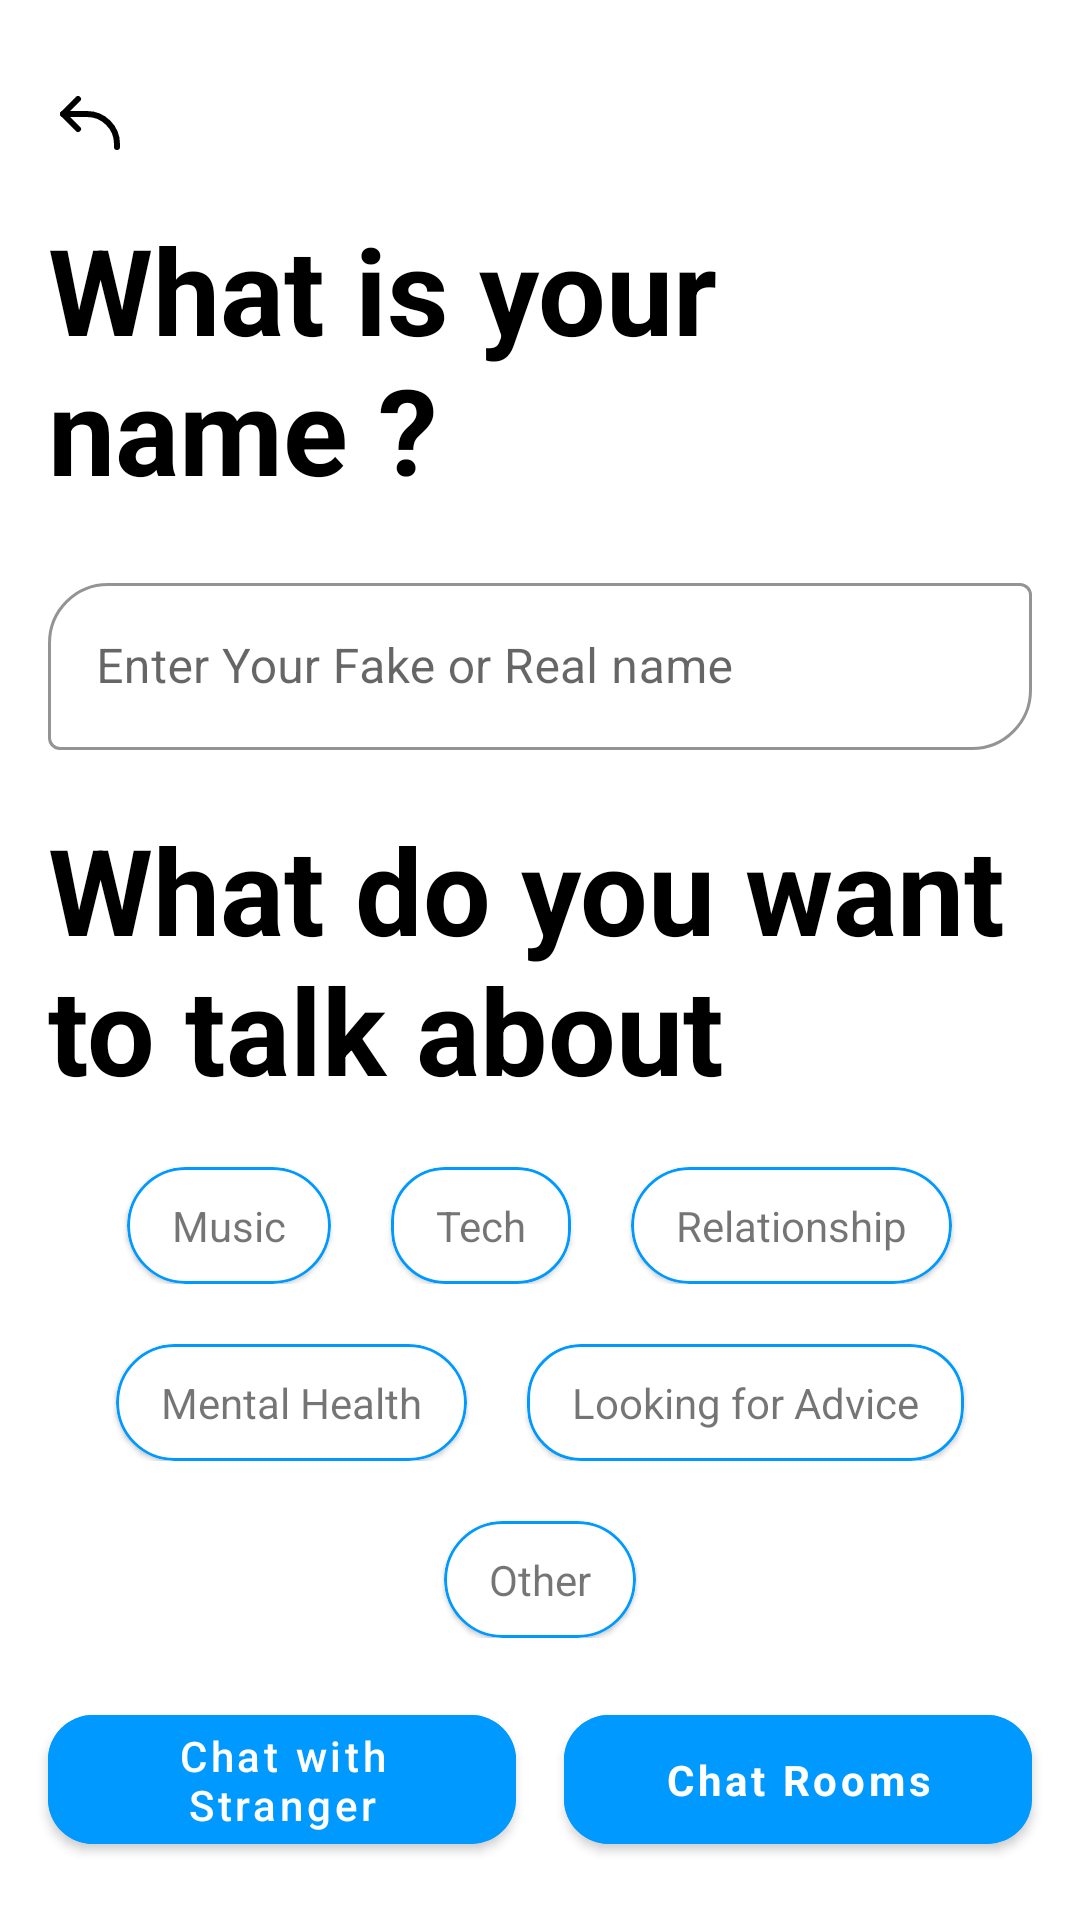

Screen size 1080 x 1920. Icon name, then its box in pixels as bbox=(x1, y1, x2, y2):
back: bbox=(60, 96, 120, 150)
